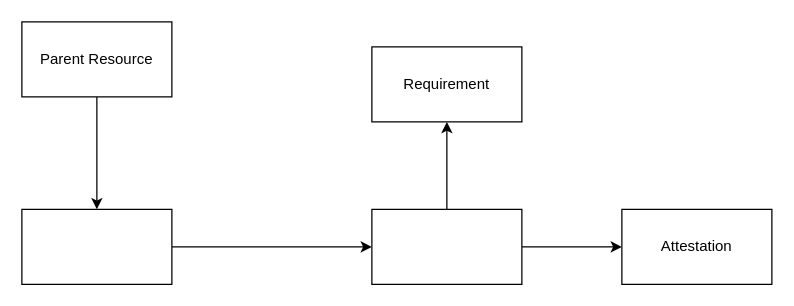
This 794x306 diagram has some shape labels left out. The shapes that lost their labels are listed below. From the top down, each one's centre as x and y in pixels, then its label:
At (96,246): "Resource".
At (446,246): "Implementation".
